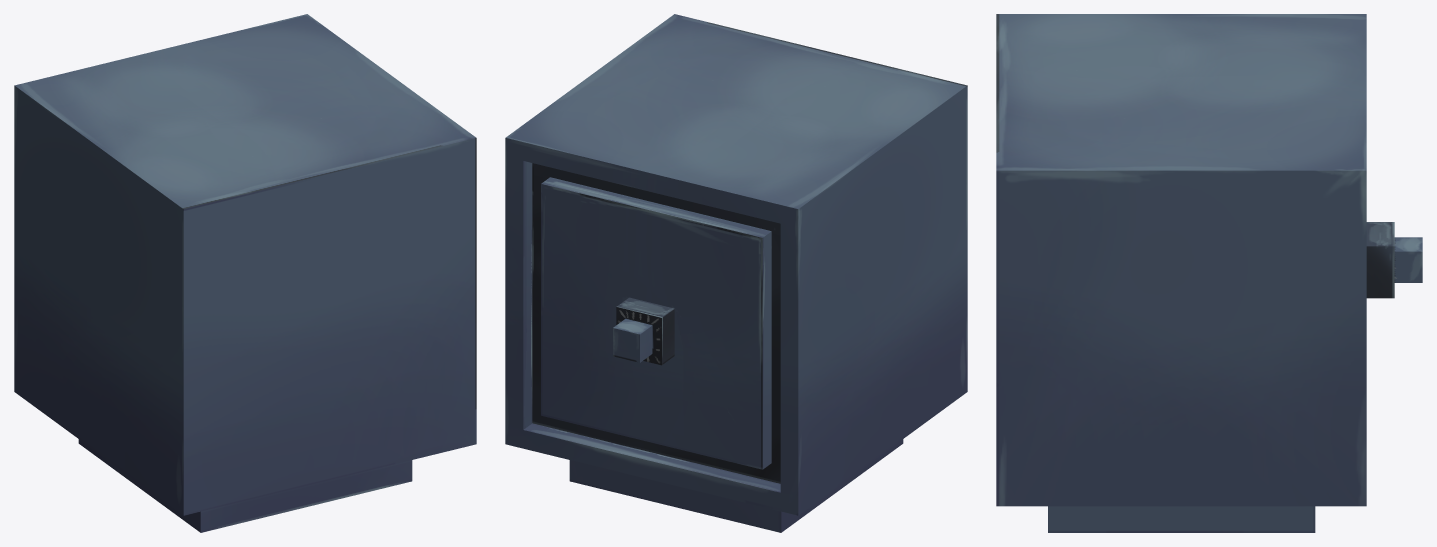
File: CAJA.fbx
3 views of the same model, side by side, from view 1: azimuth 30°, elevation 25°; view 2: azimuth 150°, elevation 25°; view 3: azimuth 270°, elevation 25° (orthographic). The views are drawn at different scales.
Visible parts, largest first — view 1: Cube; view 2: Cube; view 3: Cube.
Boxes of the visible parts, left/top/right/bottom form: Cube: left=14, top=14, right=476, bottom=532; Cube: left=505, top=14, right=967, bottom=532; Cube: left=996, top=14, right=1422, bottom=532.
Size of the model in its own units: 459 by 525 by 528.
Materials: 1 (1 with a texture image).
